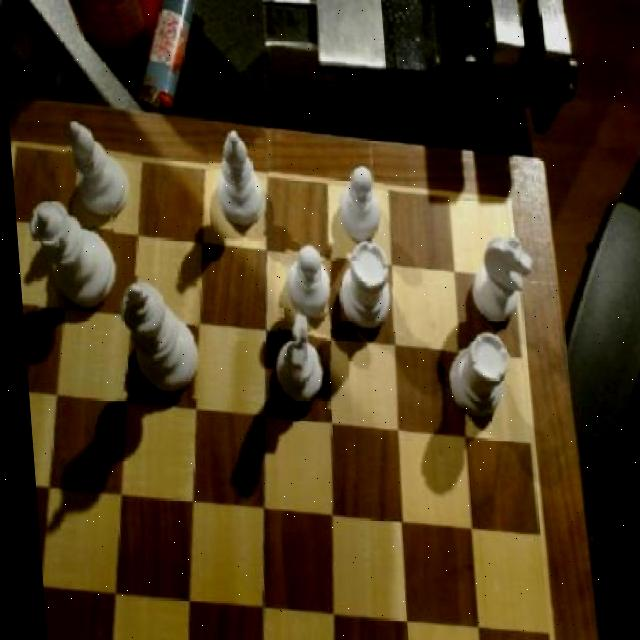black-rook: (203, 126, 270, 235), (64, 121, 133, 222)
white-bishop: (113, 275, 200, 398)
white-king: (463, 237, 535, 328), (267, 309, 329, 409)
white-knight: (277, 243, 333, 323), (334, 168, 386, 247)
white-pawn: (26, 198, 118, 310)
white-queen: (441, 331, 512, 426), (332, 240, 400, 332)
